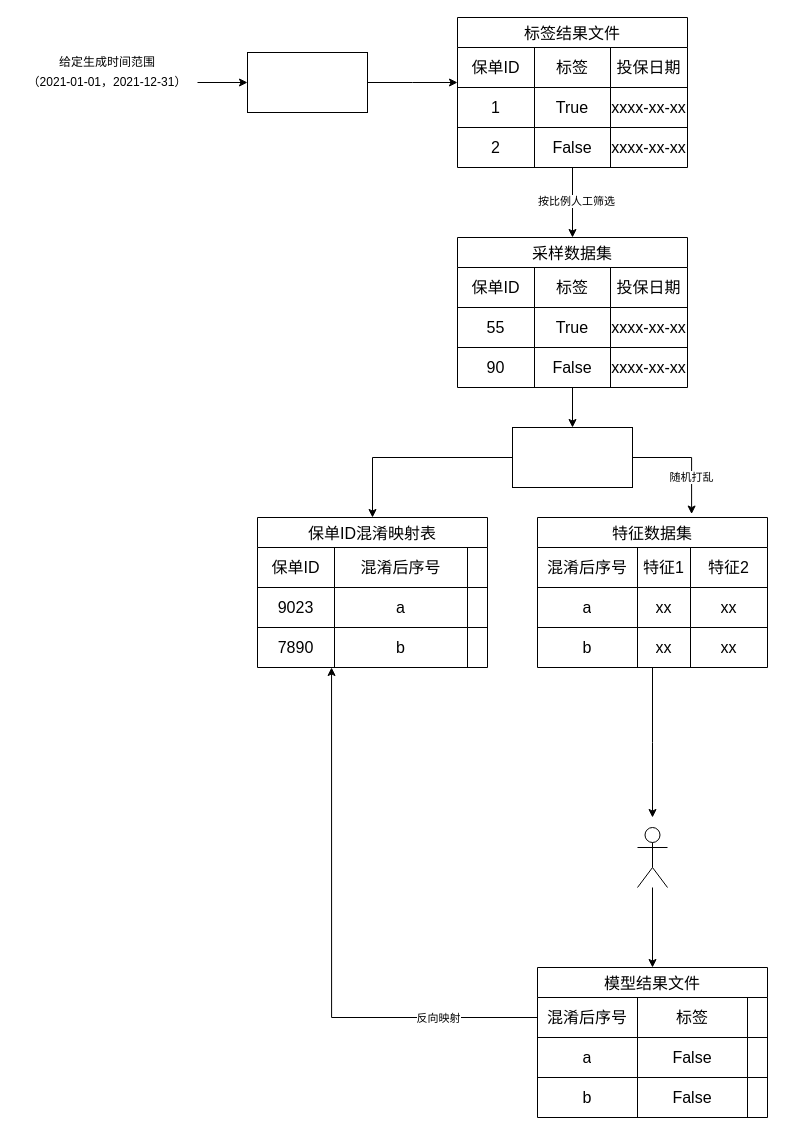
This 785x1135 diagram has some shape labels left out. Each missing label, with the centre of its shape:
标签生成脚本: (x=307, y=82)
模型开发人员: (x=652, y=857)
特征生成脚本: (x=572, y=457)
